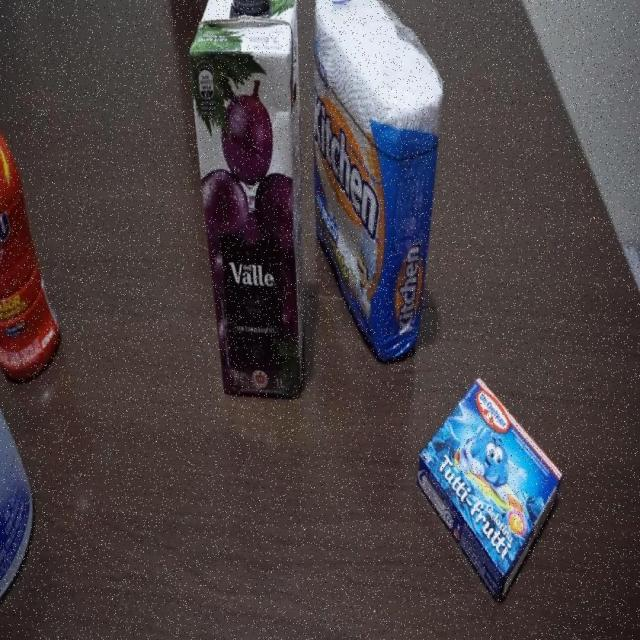AlcoholBottle: (0, 337, 35, 637)
ChocolateMilk: (0, 52, 60, 385)
Gelatine: (418, 376, 564, 602)
Napkin: (313, 0, 444, 362)
